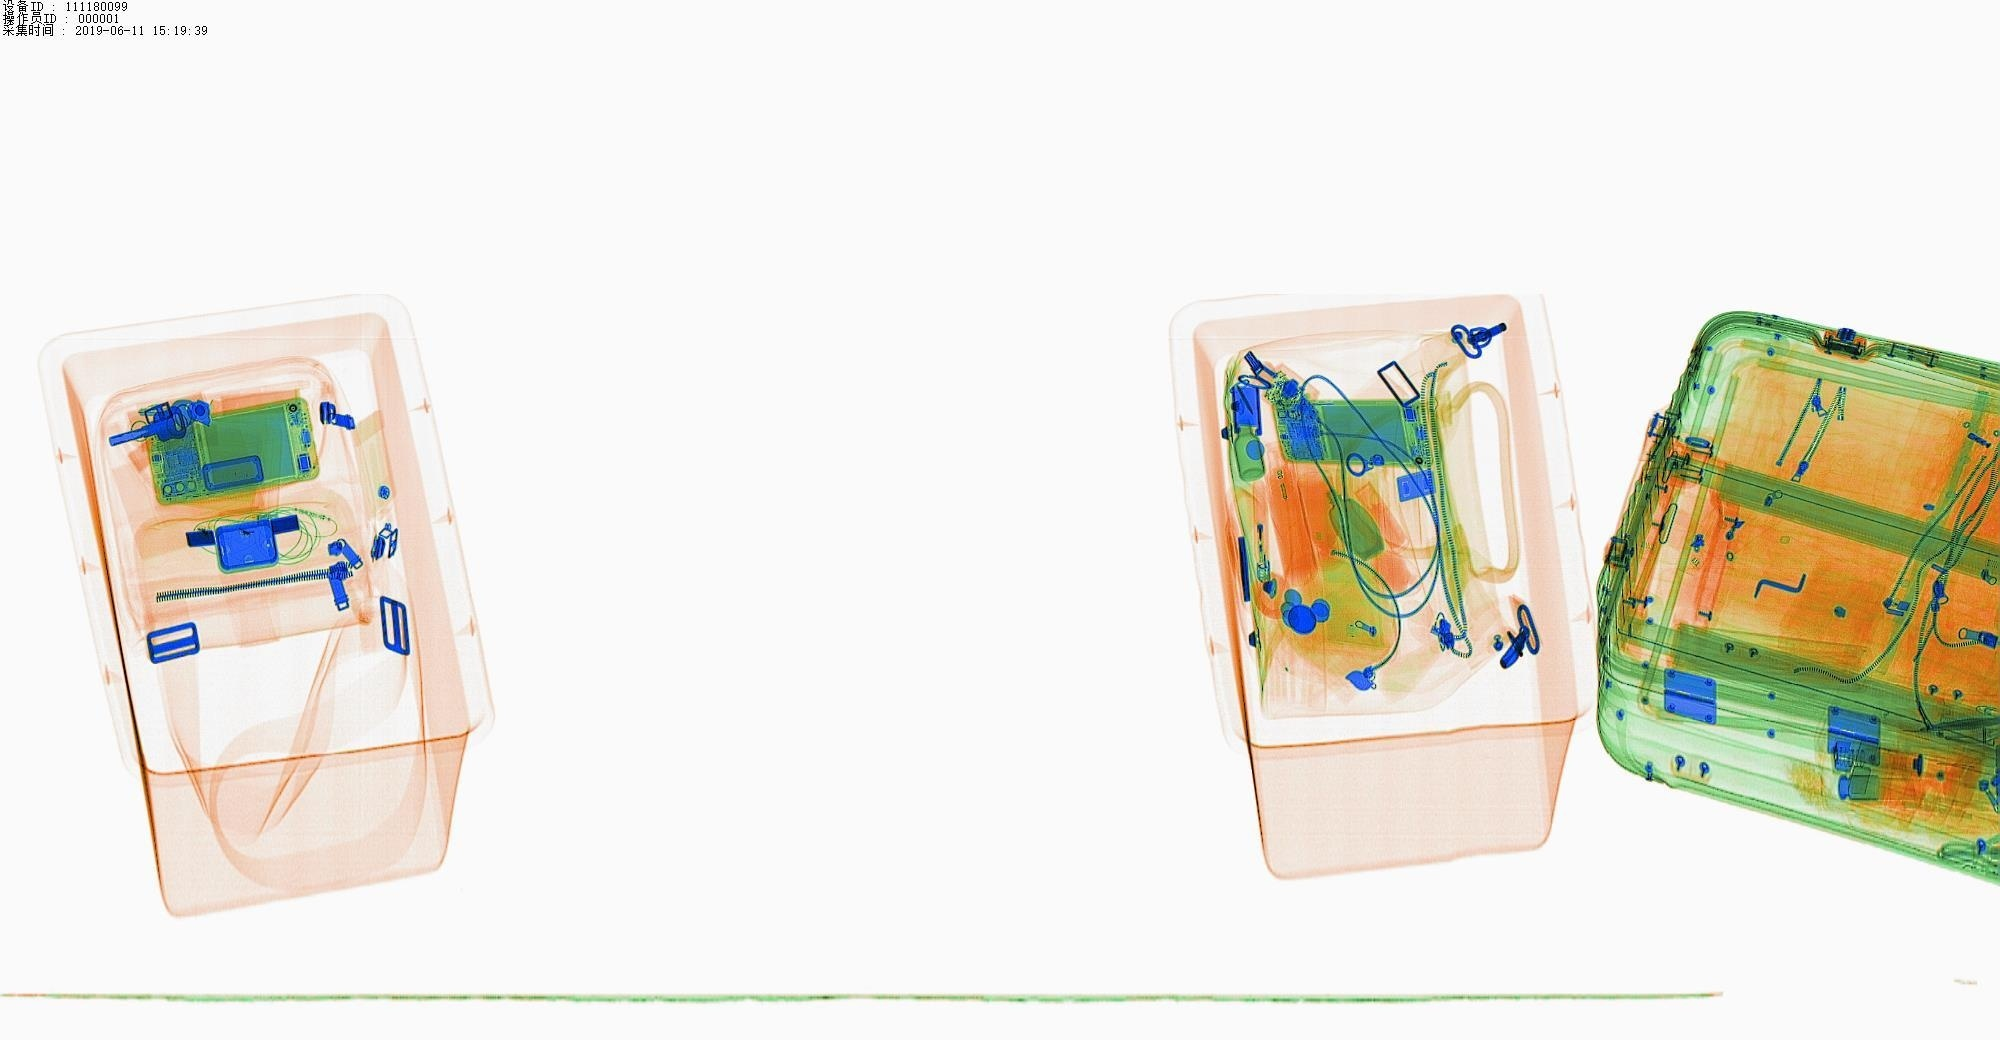NonmetallicFire: (1230, 464, 1283, 611)
